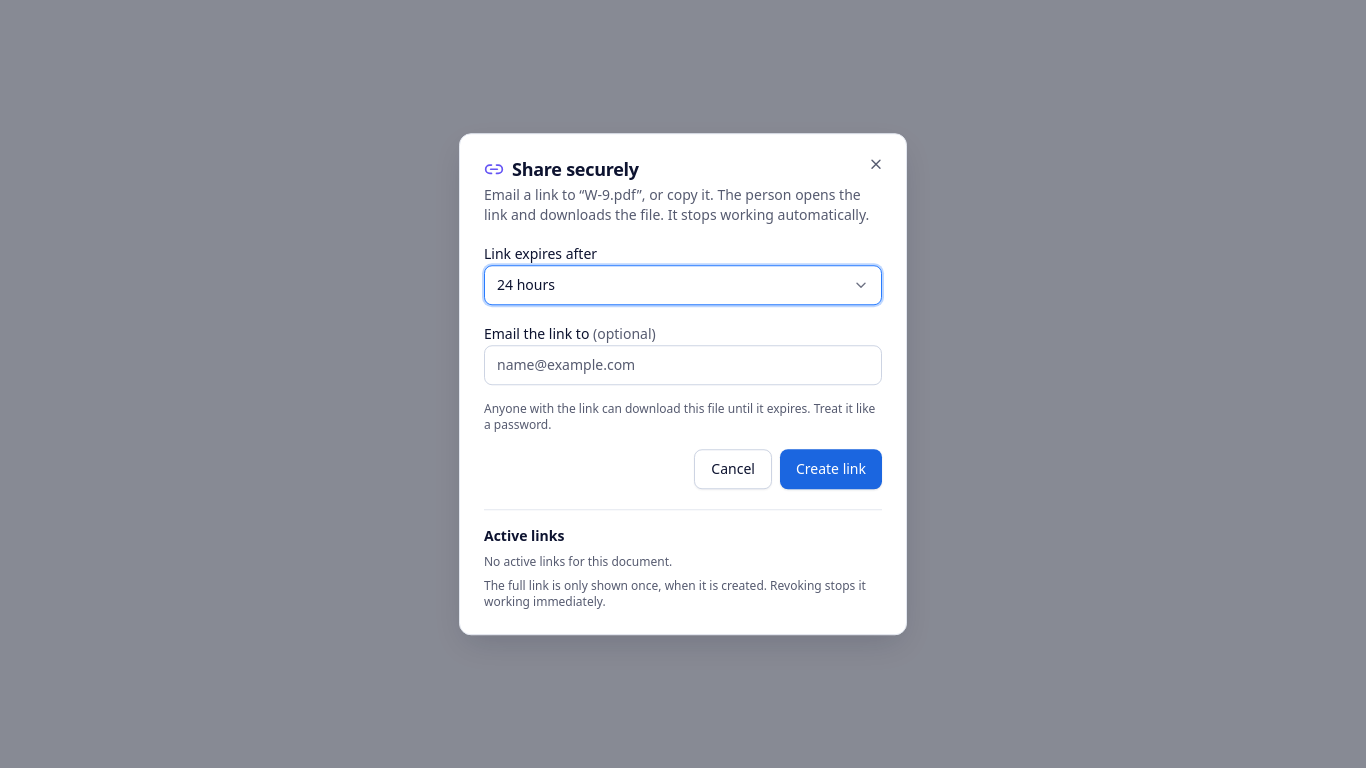
Test: ShareDialog: email the link › shows the link and the reason when the email could not be sent
Type "pat@acme.com" into the field labelled "Email the link to (optional)". click: [683, 365]
box: [484,345,882,385]
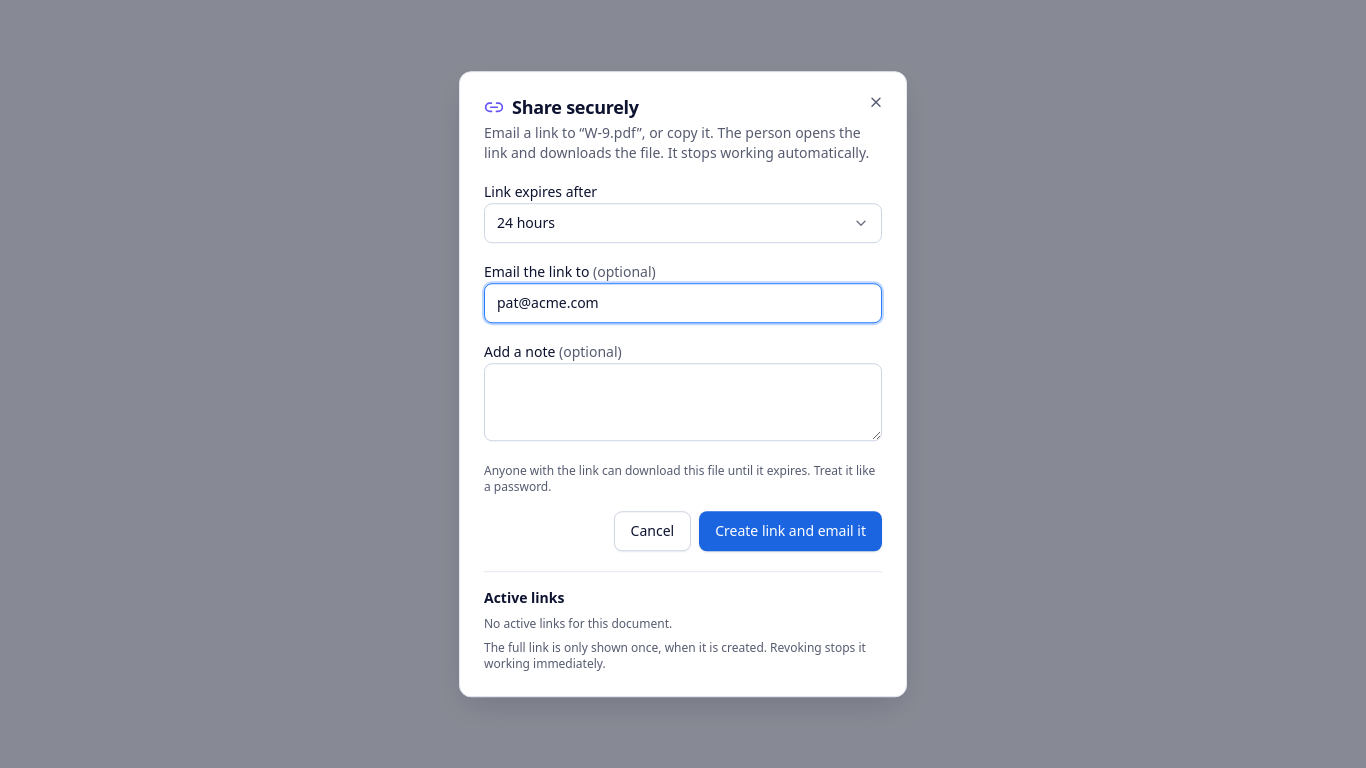
Click the button "Create link and email it". click: [791, 531]
box: [699,511,882,551]
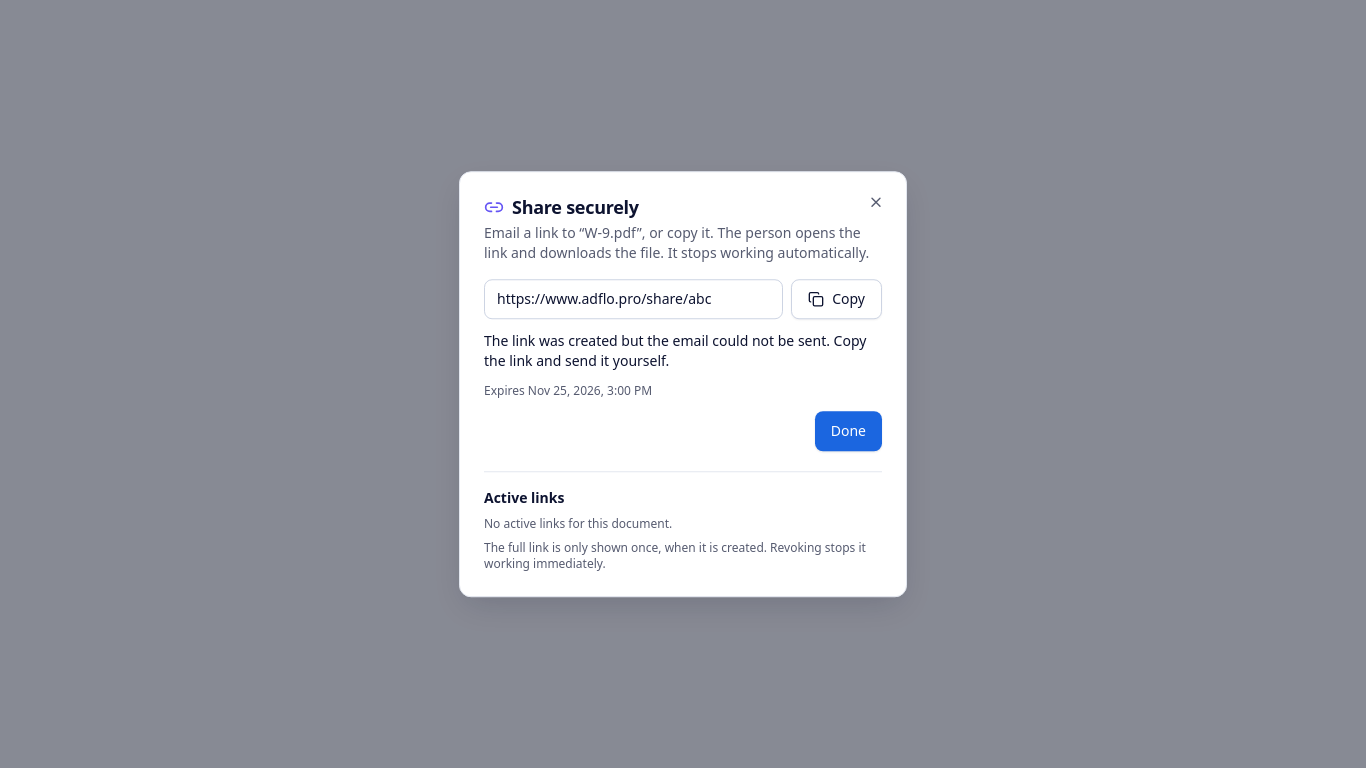
Now the message shows "could not be sent", box [484,331,866,370]
Now the field named "Share link" holds "https://www.adflo.pro/share/abc", box [484,279,783,319]
